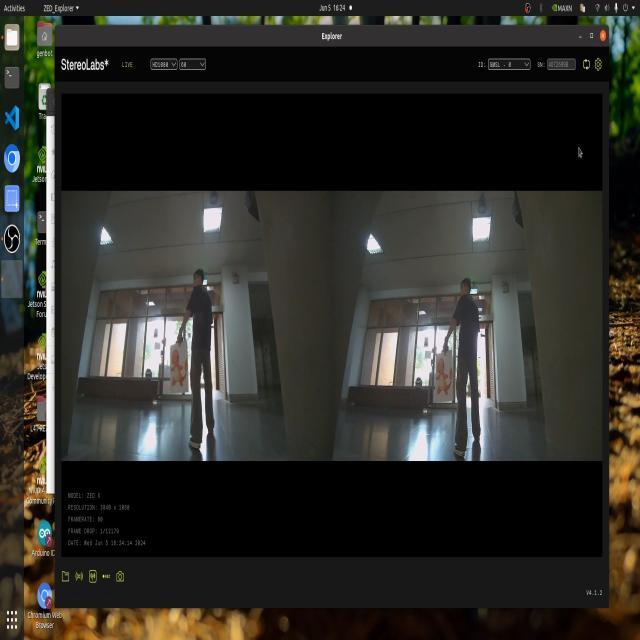red: (439, 359, 458, 409), (170, 348, 184, 386)
